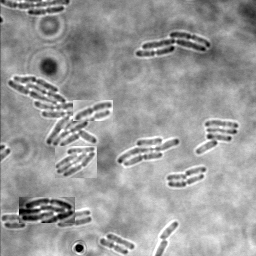Dividing: (73, 100, 113, 121), (167, 175, 204, 189), (99, 238, 128, 255), (56, 217, 92, 228), (27, 7, 64, 17)
Microcolony: (7, 76, 98, 147), (117, 137, 180, 168), (135, 32, 211, 57), (195, 120, 238, 155), (19, 197, 75, 223), (55, 146, 97, 178), (1, 208, 42, 229)
Rod: (106, 233, 135, 251), (157, 222, 178, 240), (184, 167, 206, 177), (166, 174, 187, 183)
